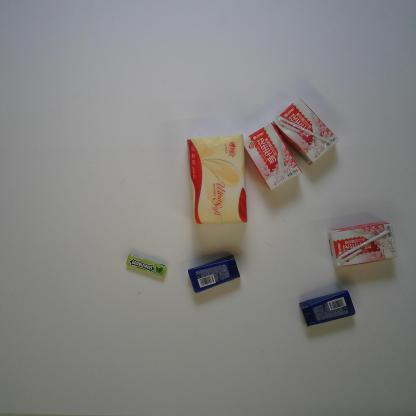Gum: (123, 250, 168, 281)
Milk: (274, 94, 340, 168), (240, 122, 304, 192), (325, 218, 397, 270)
Personal Hygiene: (299, 288, 357, 328), (186, 252, 241, 294)
Tissue: (187, 134, 249, 226)
